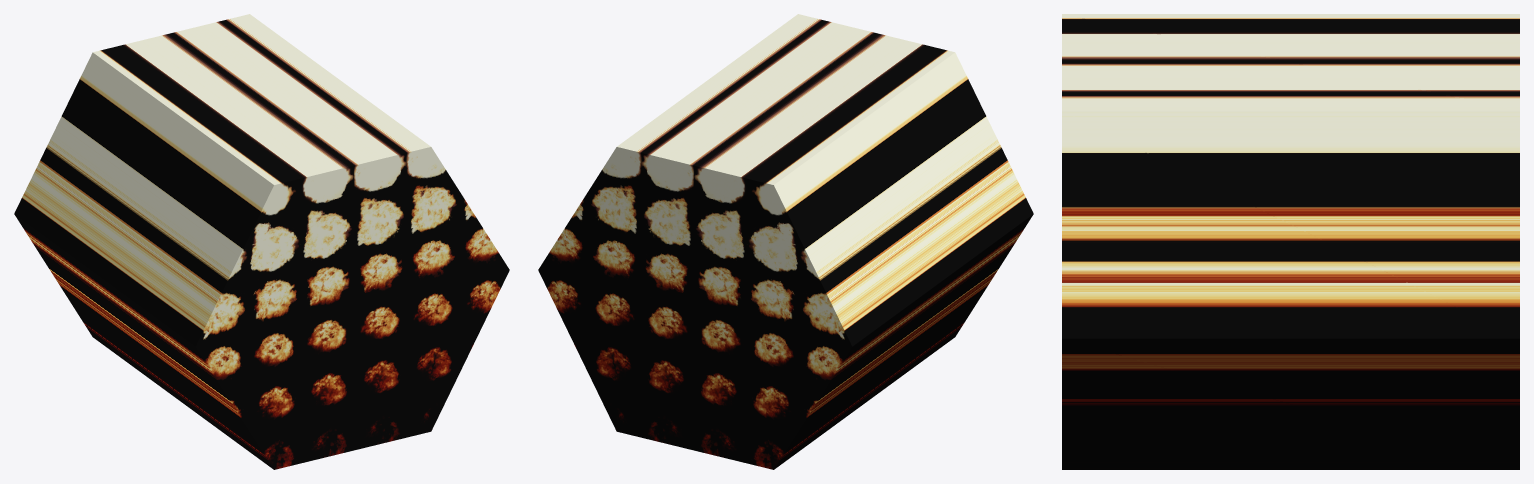
The model's file is TestHexagonalPrism.obj.
3 renders of one model, left to right at view 1: azimuth 30°, elevation 25°; view 2: azimuth 150°, elevation 25°; view 3: azimuth 270°, elevation 25°, orthographic. The views are drawn at different scales.
Bounding box in the file's own units: 1 × 0.866 × 1.
1 material, 1 textured.
